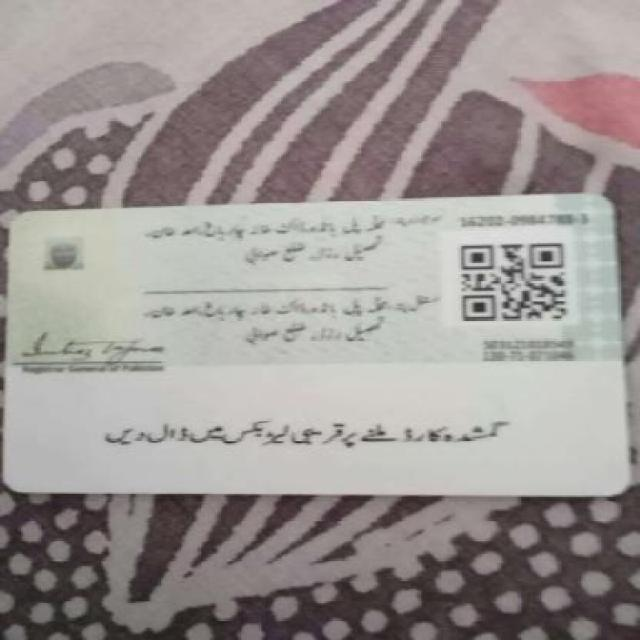Back: (9, 196, 626, 507)
